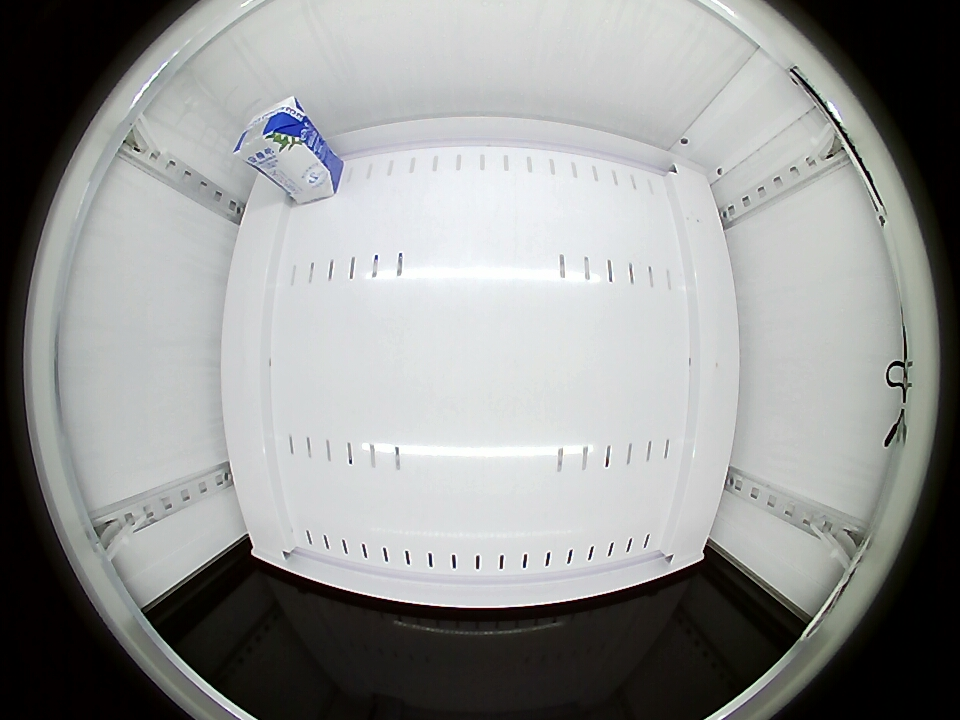anmuxi: (232, 96, 309, 170)
